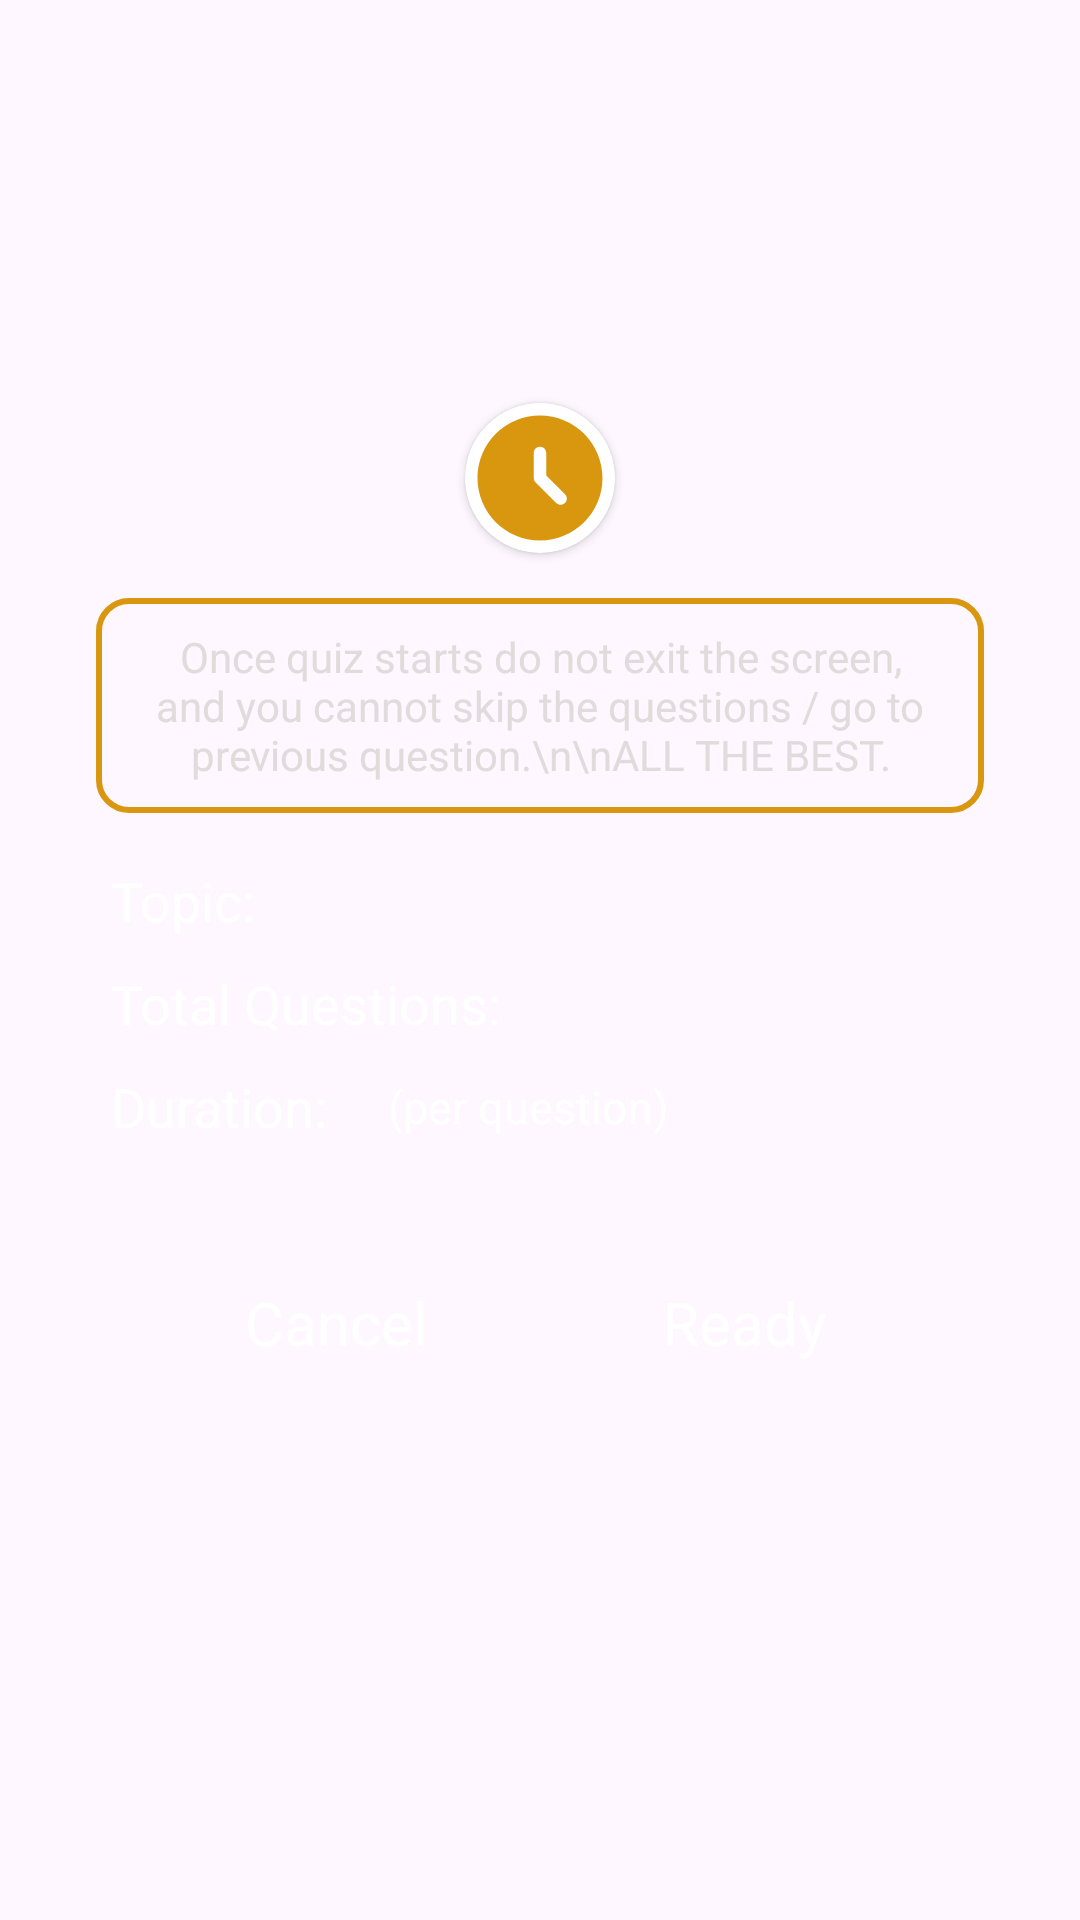

Screen size 1080 x 1920. Icon name, then its center in pixels as (x,y):
time: (540,484)
